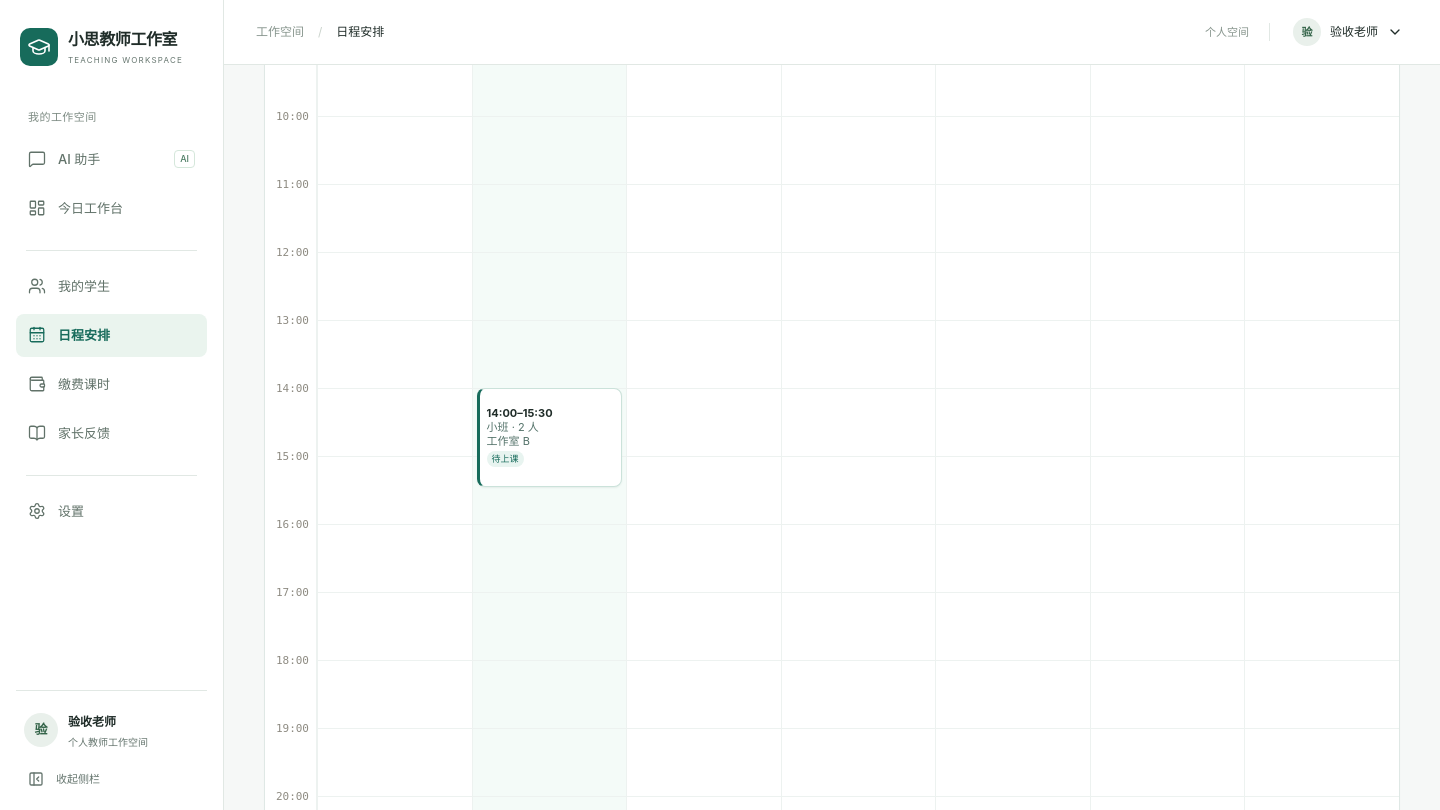
Test: connected workspace server-backed writes › keeps a drag-equivalent reschedule local until confirmation and does not show success after a scheduling failure
(page scrolled)
Click the button with aria-label "查看 14:00 至 15:30" at (549, 438), box [477,388,622,487]
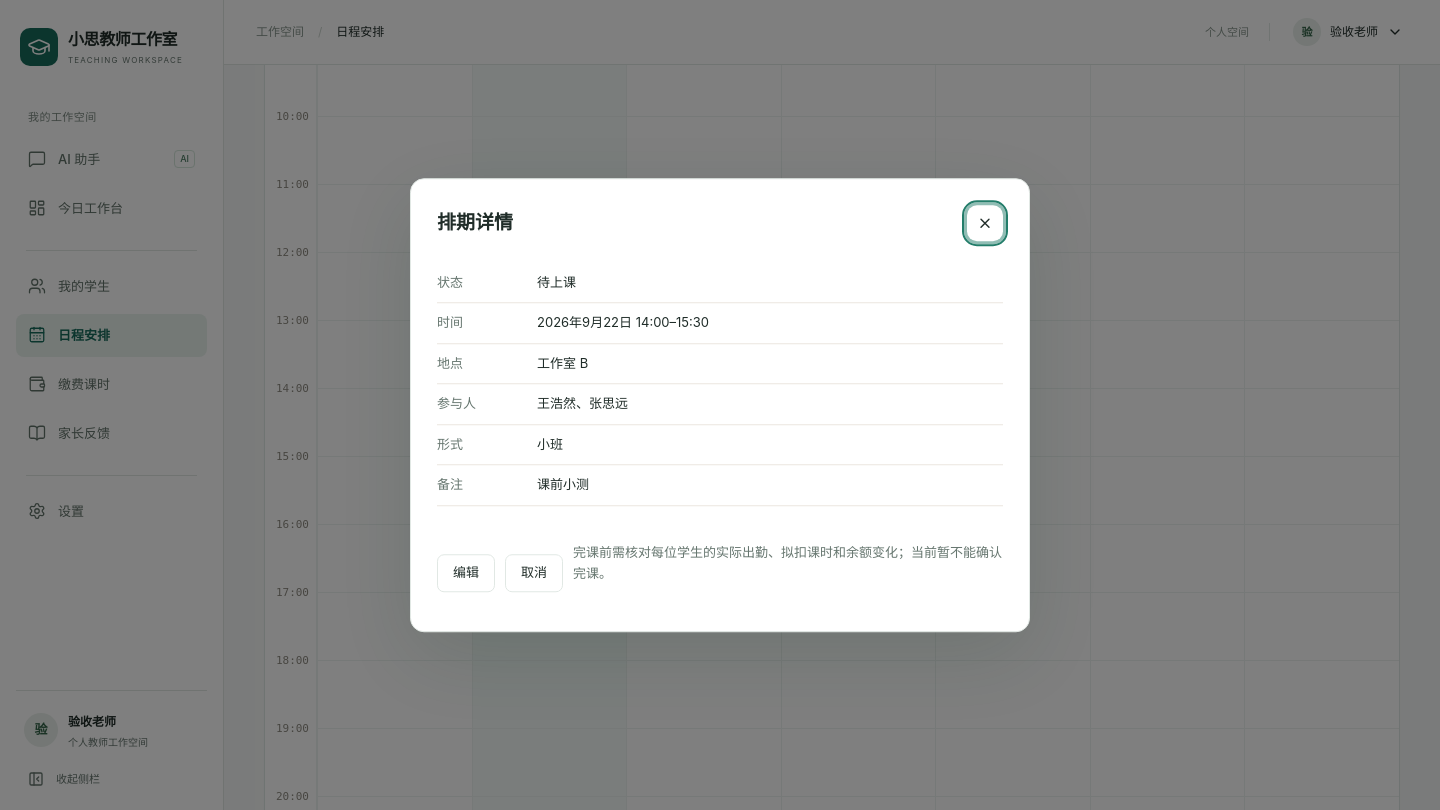
Click the button "编辑" at (466, 573), box [437,554,495,592]
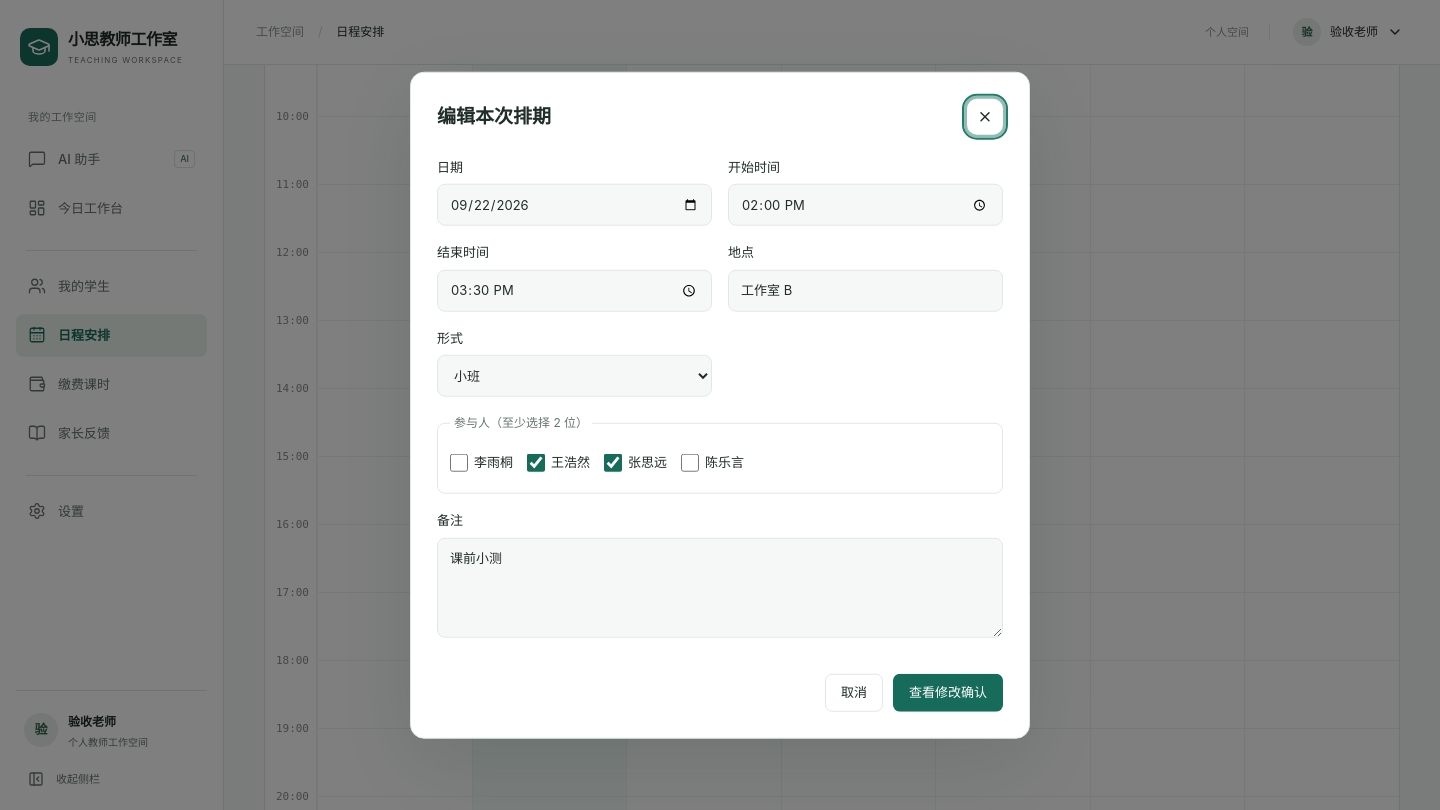
Type "2026-09-23" into the date field labelled "日期" at (574, 205), box [437,184,712,226]
Replace the text in the time field labelled "开始时间" with "10:15" at (866, 205), box [728,184,1003,226]
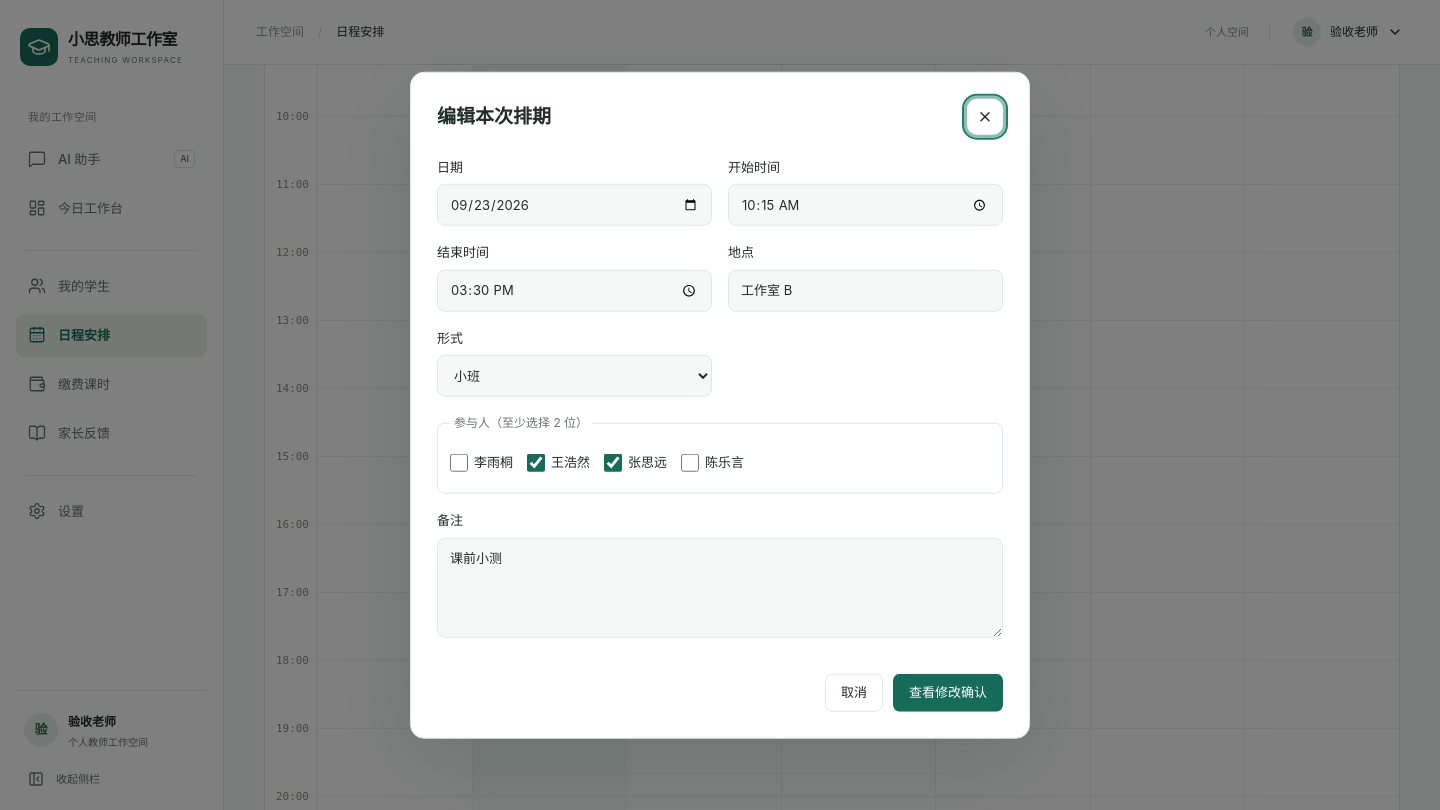
Replace the text in the time field labelled "结束时间" with "11:45" at (574, 291), box [437,270,712,312]
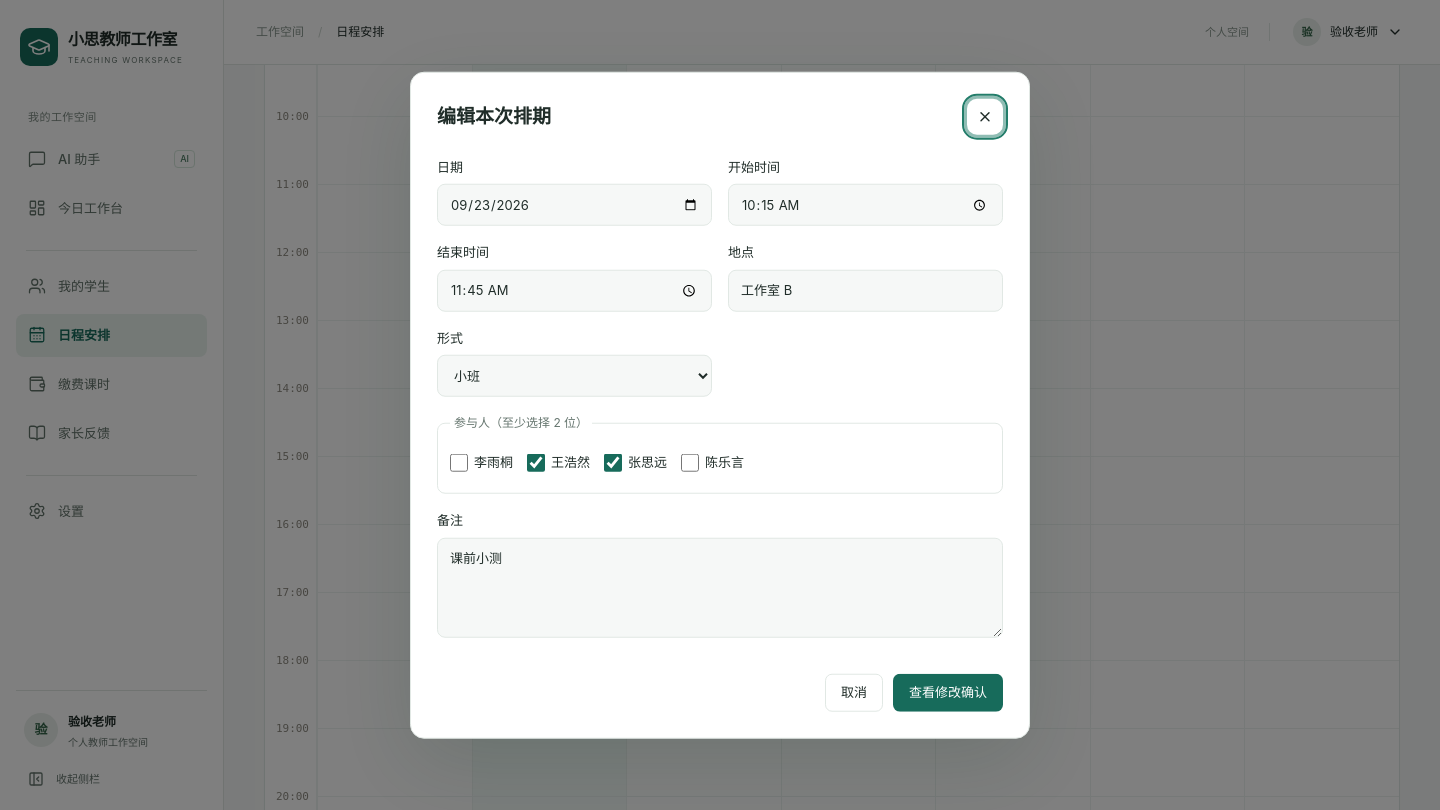
Click the button "查看修改确认" at (948, 692), box [893,673,1003,711]
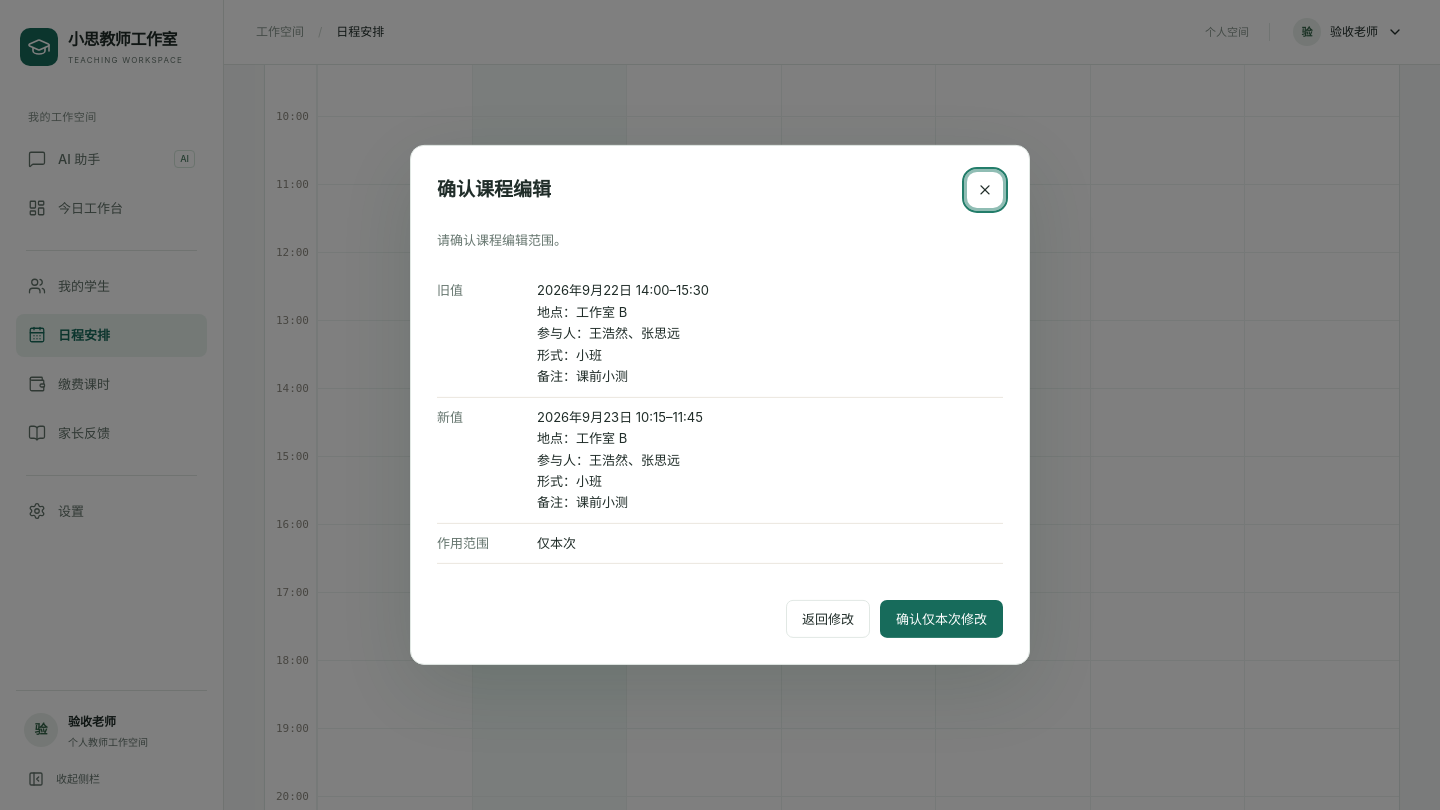
Click the button "确认仅本次修改" at (942, 619), box [880,600,1003,638]
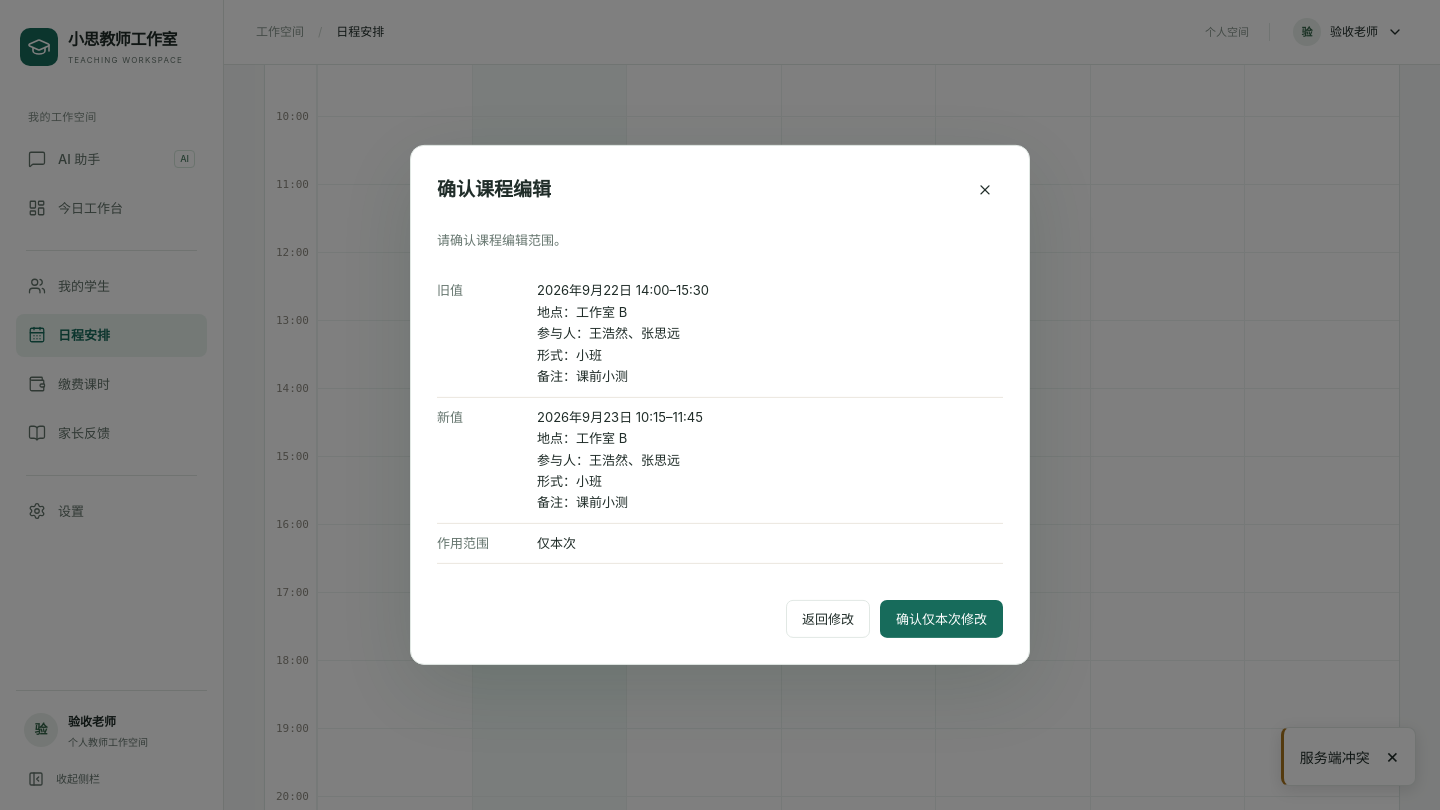
Now the text "服务端冲突" is shown, box [1300,749,1370,766]
